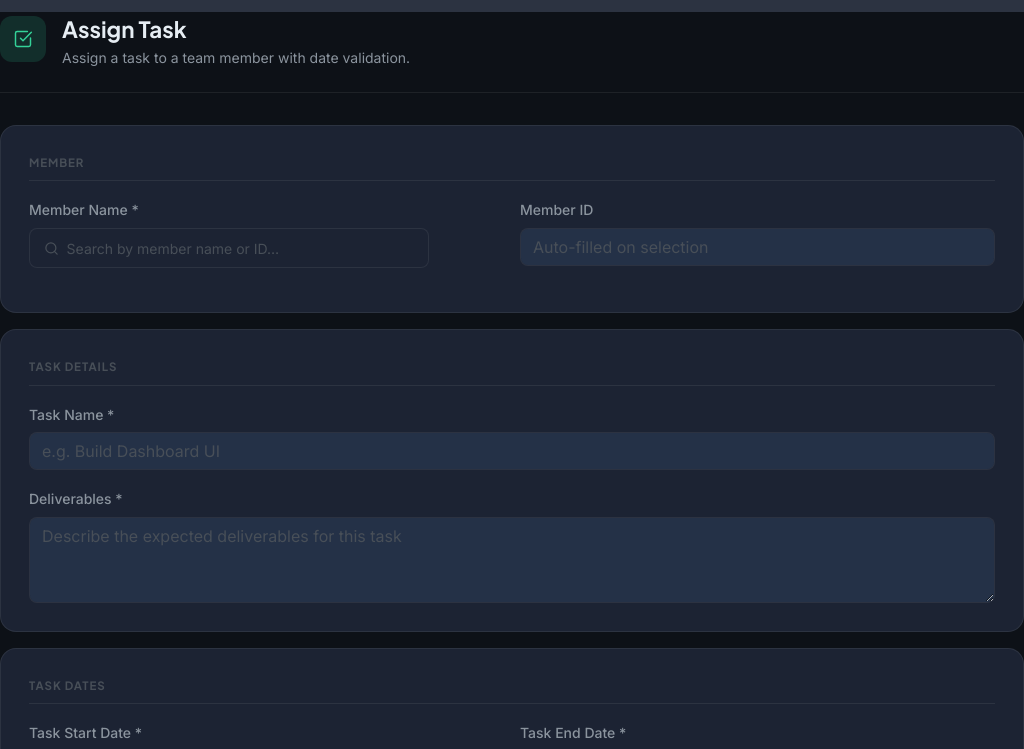
Test: AssignTaskPage › should show validation error for missing task name on submit
Click the field labelled "Task Name *" at x=512, y=451, box [29, 432, 995, 470]
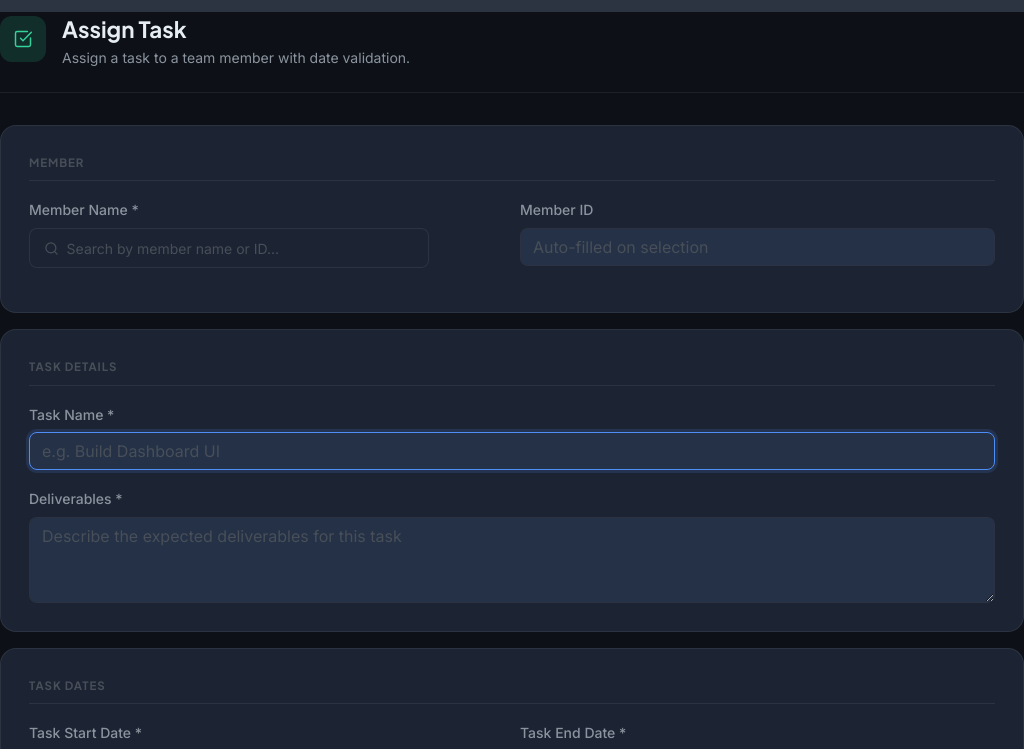
Press Tab
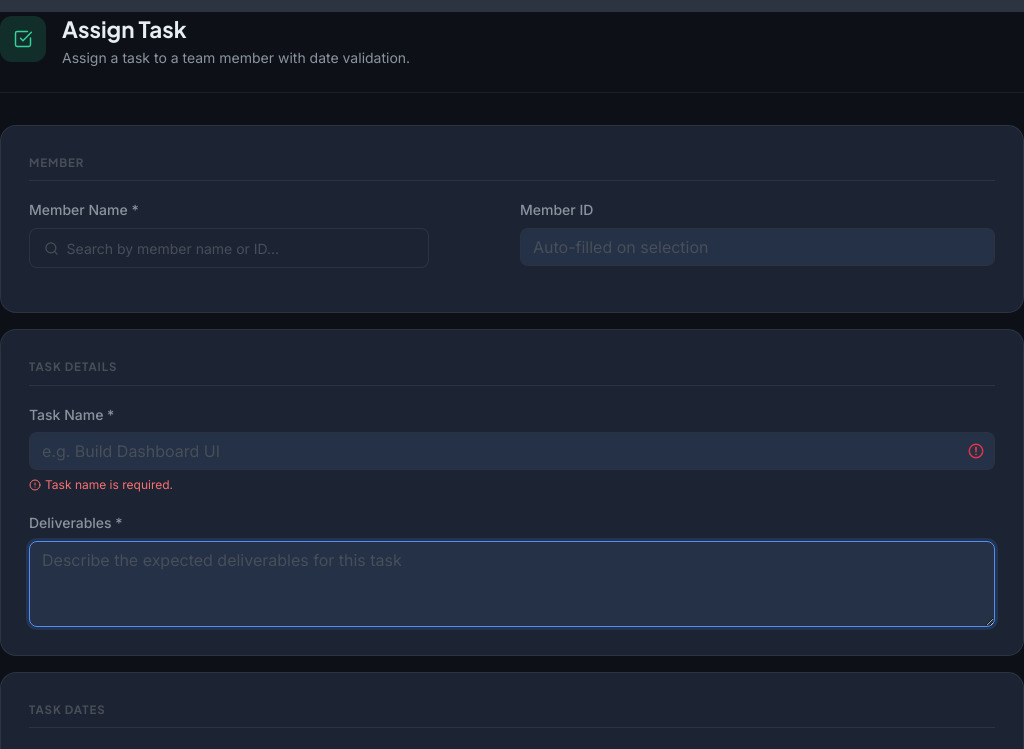
Expected: the text "Task name is required." is shown, [29, 477, 173, 492]
